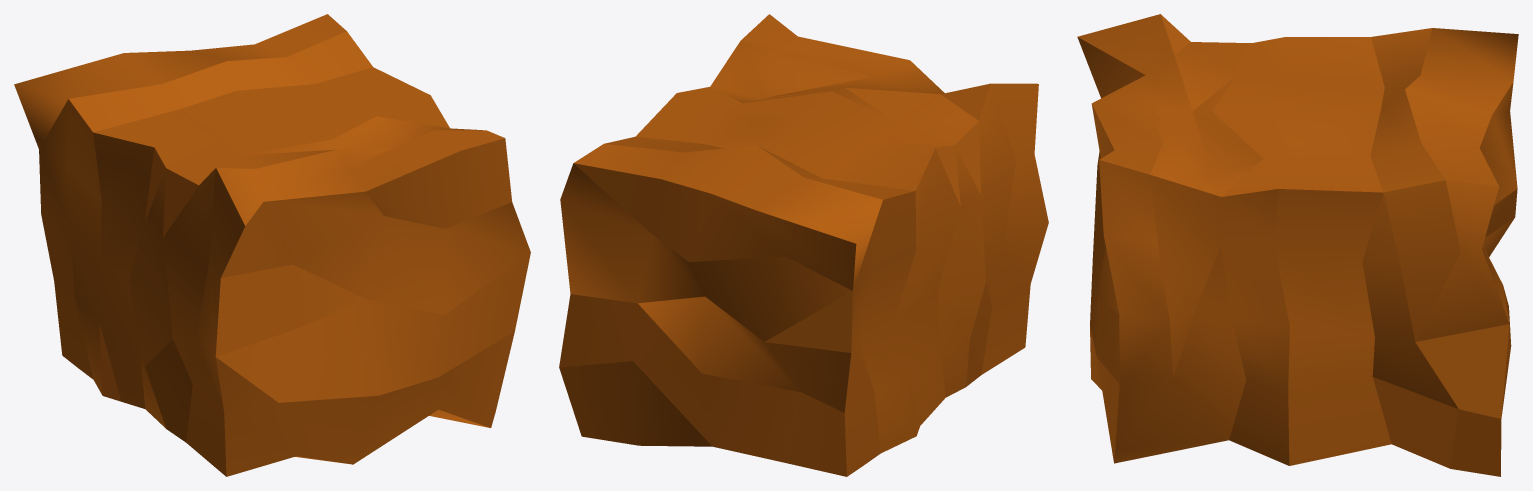
The model's file is Hay_2_1.fbx.
The picture shows the model from 3 angles, left to right: view 1: azimuth 30°, elevation 25°; view 2: azimuth 150°, elevation 25°; view 3: azimuth 270°, elevation 25°; orthographic projection. The views are drawn at different scales.
Parts seen in each view (by area): view 1: Hay_2_1; view 2: Hay_2_1; view 3: Hay_2_1.
Boxes of the visible parts, x1=… form: Hay_2_1: x1=14, y1=14, x2=530, y2=476; Hay_2_1: x1=559, y1=14, x2=1048, y2=476; Hay_2_1: x1=1077, y1=14, x2=1518, y2=476.
Size of the model in its own units: 22.46 by 20.86 by 25.15.
